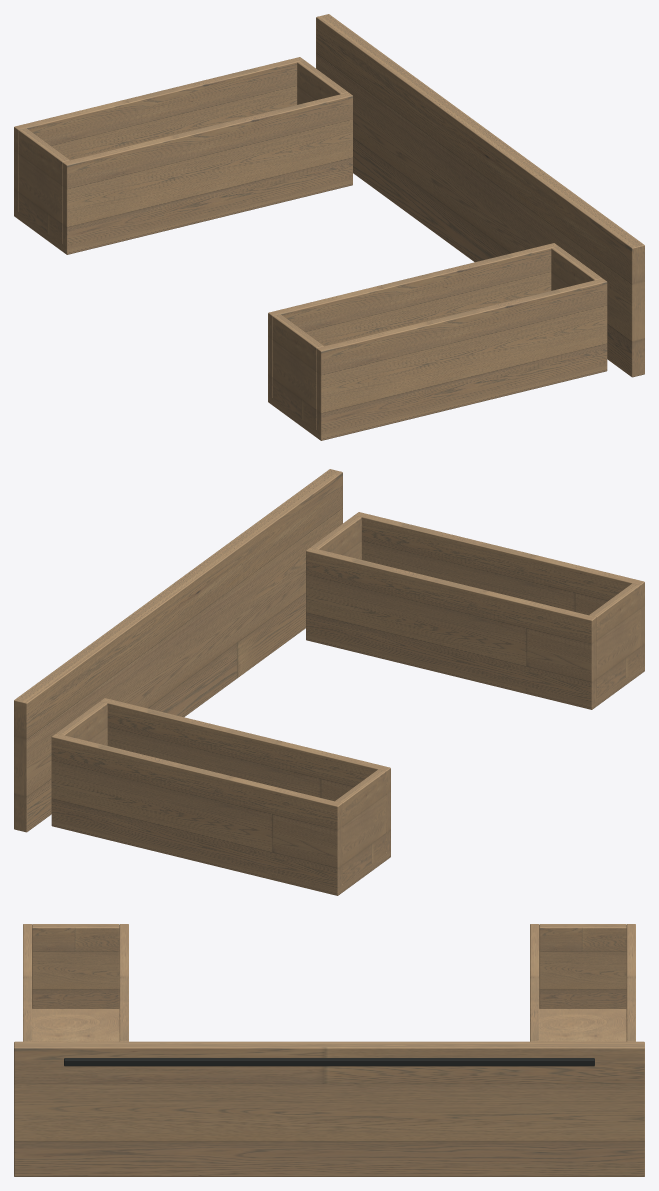
Rendered from vanity_upper_drawer.glb.
The picture shows the model from 3 angles, top to bottom: view 1: azimuth 30°, elevation 25°; view 2: azimuth 150°, elevation 25°; view 3: azimuth 270°, elevation 25°; orthographic projection.
Visible parts, largest first — view 1: vanity_upper_drawer_front, vanity_upper_drawer_bin_1_side_-1, vanity_upper_drawer_bin_0_side_-1, vanity_upper_drawer, vanity_upper_drawer_bin_1_end_-0.262, vanity_upper_drawer_bin_0_end_-0.262, vanity_upper_drawer_bin_0_floor, vanity_upper_drawer_bin_1_floor, vanity_upper_drawer_bin_0_end_0.282, vanity_upper_drawer_bin_1_end_0.282; view 2: vanity_upper_drawer, vanity_upper_drawer_front, vanity_upper_drawer_bin_1_side_-1, vanity_upper_drawer_bin_0_side_-1, vanity_upper_drawer_bin_0_end_-0.262, vanity_upper_drawer_bin_1_end_-0.262, vanity_upper_drawer_bin_1_floor, vanity_upper_drawer_bin_0_floor, vanity_upper_drawer_bin_1_end_0.282, vanity_upper_drawer_bin_0_end_0.282; view 3: vanity_upper_drawer_front, vanity_upper_drawer_bin_0_end_-0.262, vanity_upper_drawer_bin_1_end_-0.262, vanity_upper_drawer_pull, vanity_upper_drawer_bin_0_floor, vanity_upper_drawer_bin_1_floor, vanity_upper_drawer, vanity_upper_drawer_bin_1_side_-1, vanity_upper_drawer_bin_0_side_-1.
Part boxes in pixels (box(x1,y1,x2,y2)): vanity_upper_drawer_front: box(316, 14, 644, 377); vanity_upper_drawer_bin_1_side_-1: box(62, 92, 352, 249); vanity_upper_drawer_bin_0_side_-1: box(316, 278, 607, 435); vanity_upper_drawer: box(14, 57, 558, 398); vanity_upper_drawer_bin_1_end_-0.262: box(18, 128, 69, 243); vanity_upper_drawer_bin_0_end_-0.262: box(273, 314, 323, 431); vanity_upper_drawer_bin_0_floor: box(268, 364, 607, 440); vanity_upper_drawer_bin_1_floor: box(14, 178, 352, 254); vanity_upper_drawer_bin_0_end_0.282: box(551, 246, 602, 290); vanity_upper_drawer_bin_1_end_0.282: box(297, 60, 347, 104); vanity_upper_drawer: box(51, 547, 596, 890); vanity_upper_drawer_front: box(14, 469, 342, 832); vanity_upper_drawer_bin_1_side_-1: box(100, 698, 390, 853); vanity_upper_drawer_bin_0_side_-1: box(354, 512, 644, 667); vanity_upper_drawer_bin_0_end_-0.262: box(589, 583, 640, 698); vanity_upper_drawer_bin_1_end_-0.262: box(335, 769, 385, 886); vanity_upper_drawer_bin_1_floor: box(51, 819, 390, 895); vanity_upper_drawer_bin_0_floor: box(306, 633, 644, 709); vanity_upper_drawer_bin_1_end_0.282: box(56, 701, 107, 745); vanity_upper_drawer_bin_0_end_0.282: box(311, 515, 361, 559); vanity_upper_drawer_front: box(14, 1041, 644, 1176); vanity_upper_drawer_bin_0_end_-0.262: box(32, 924, 119, 1008); vanity_upper_drawer_bin_1_end_-0.262: box(539, 924, 626, 1008); vanity_upper_drawer_pull: box(64, 1058, 594, 1066); vanity_upper_drawer_bin_0_floor: box(32, 1009, 119, 1041); vanity_upper_drawer_bin_1_floor: box(539, 1009, 626, 1041); vanity_upper_drawer: box(119, 924, 635, 1041); vanity_upper_drawer_bin_1_side_-1: box(530, 924, 539, 1041); vanity_upper_drawer_bin_0_side_-1: box(23, 924, 32, 1041).
Bounding box in the file's own units: 0.634 × 0.242 × 1.07.
2 materials, 1 textured.
